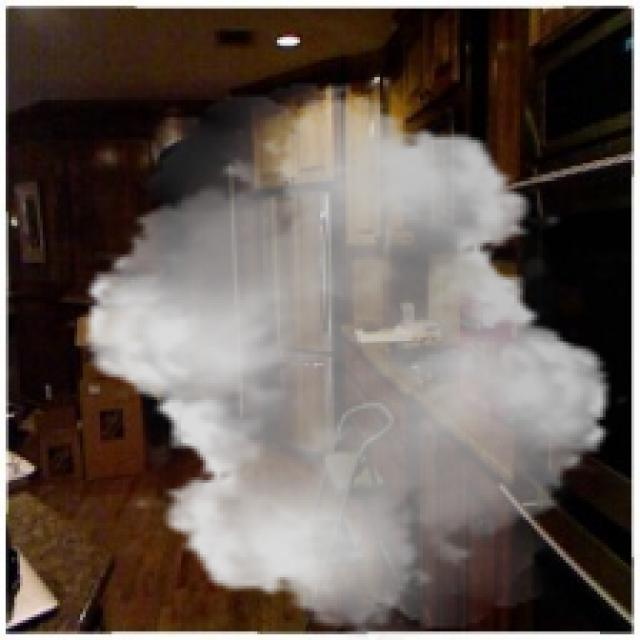Smoke: (62, 82, 634, 638)
